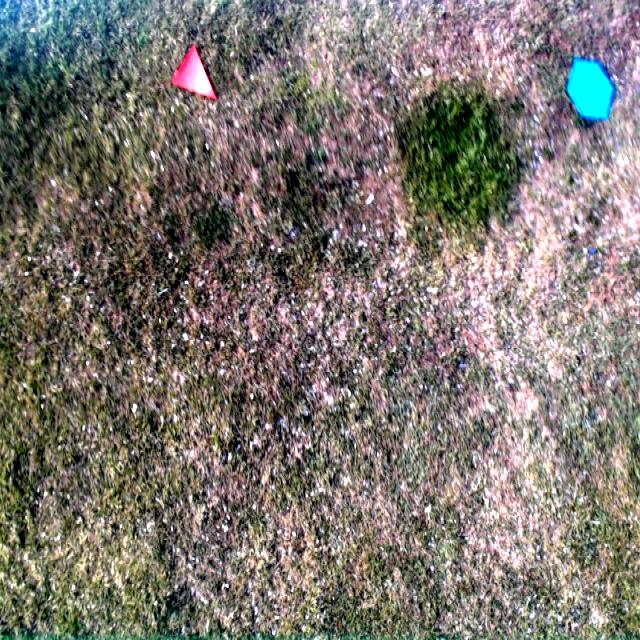blue_hexagon: (566, 56, 614, 120)
red_triangle: (169, 44, 219, 108)
